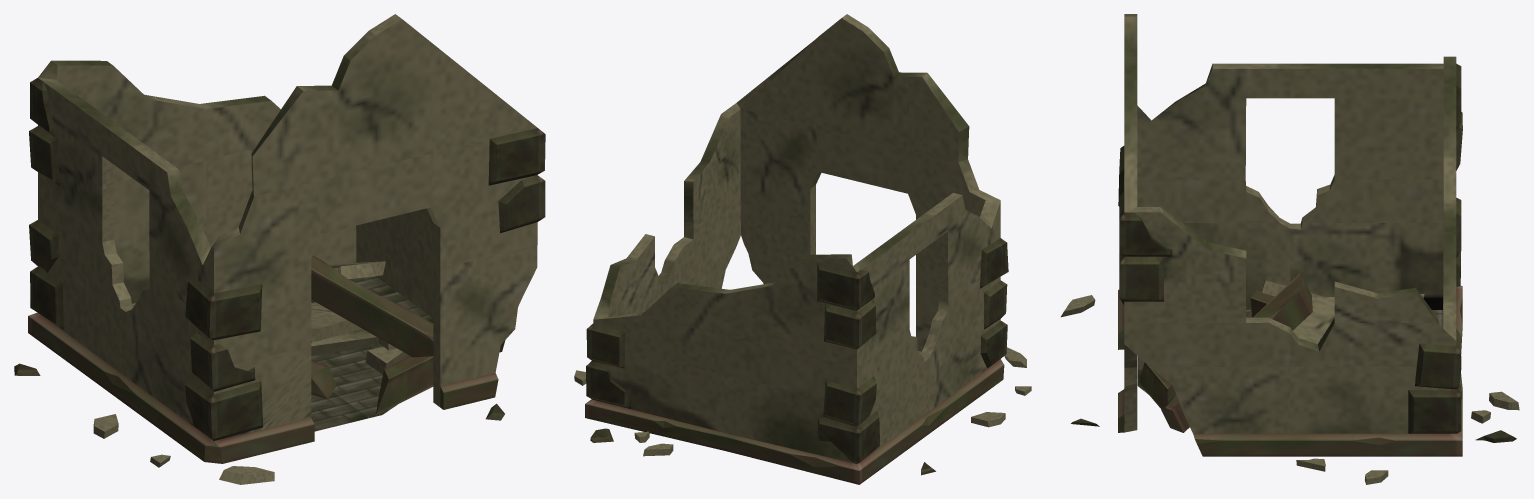
File: Private Dwelling 1 - S_r.fbx
3 renders of one model, left to right at view 1: azimuth 30°, elevation 25°; view 2: azimuth 150°, elevation 25°; view 3: azimuth 270°, elevation 25°, orthographic. The views are drawn at different scales.
Parts seen in each view (by area): view 1: PrivateDwelling1_s_r1; view 2: PrivateDwelling1_s_r1; view 3: PrivateDwelling1_s_r1.
Part boxes in pixels (left/top/right/bottom): PrivateDwelling1_s_r1: left=14, top=14, right=545, bottom=484; PrivateDwelling1_s_r1: left=574, top=14, right=1031, bottom=484; PrivateDwelling1_s_r1: left=1061, top=14, right=1519, bottom=484.
Size of the model in its own units: 3.85 by 3.27 by 3.6.
